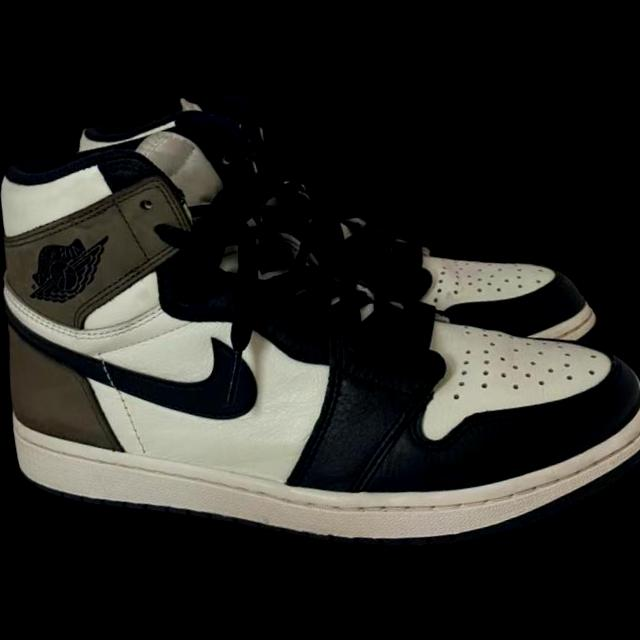nike_original_jordan: (0, 64, 640, 603), (67, 52, 602, 410)
